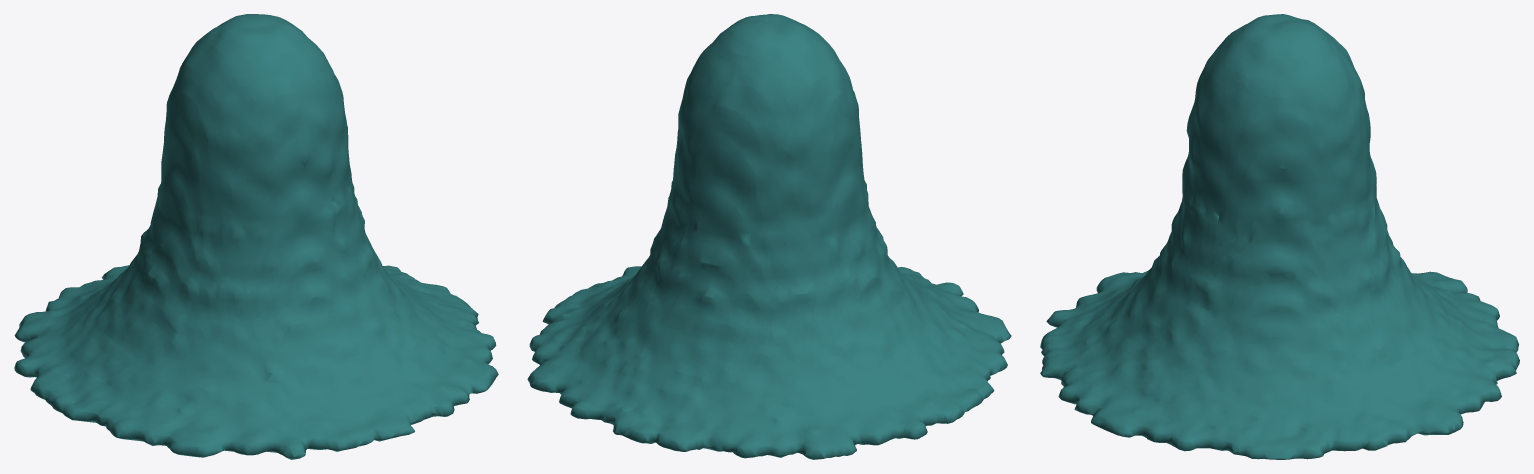
Rendered from Slime Monster V3.fbx.
The picture shows the model from 3 angles, left to right: view 1: azimuth 30°, elevation 25°; view 2: azimuth 150°, elevation 25°; view 3: azimuth 270°, elevation 25°; orthographic projection.
Visible parts, largest first — view 1: 1st Body.004; view 2: 1st Body.004; view 3: 1st Body.004.
Boxes of the visible parts, x1,y1,x2,y2 form: 1st Body.004: (14,14,498,459); 1st Body.004: (527,14,1011,459); 1st Body.004: (1040,14,1519,459).
Bounding box in the file's own units: 395 × 392 × 306.
